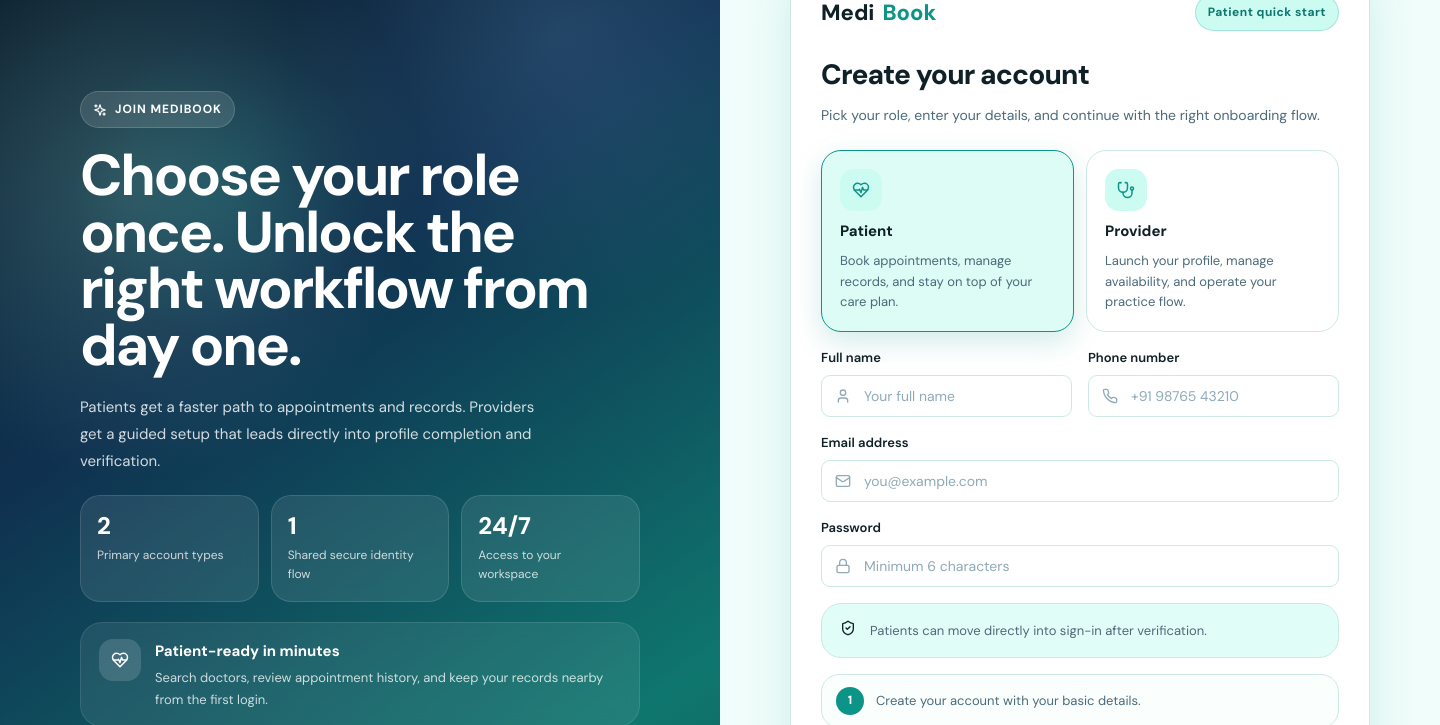
Test: LoginPage and RegisterPage › shows registration errors from the backend
In the field with placeholder "Your full name": (946, 396) [821,375,1072,417], type "  Jane Doe  "
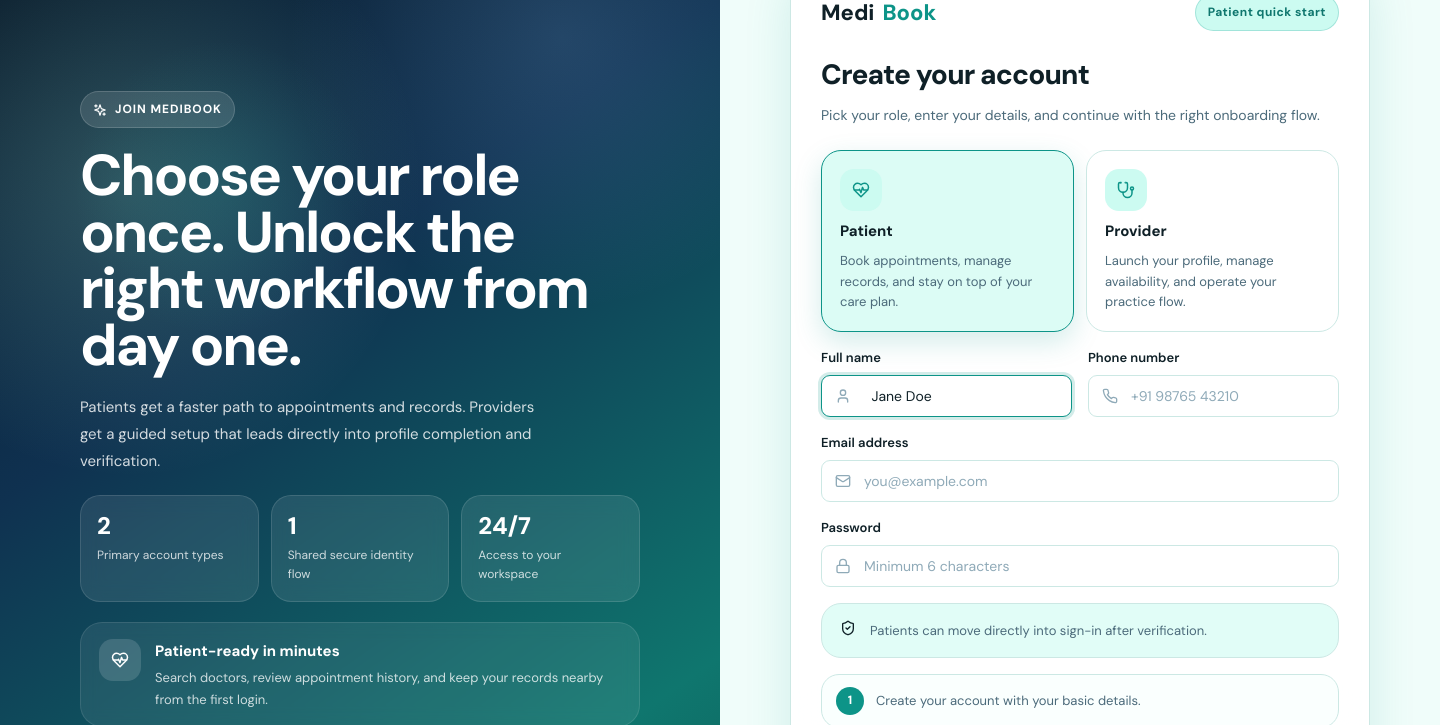
In the field with placeholder "+91 98765 43210": (1214, 396) [1088,375,1339,417], type " 98765abc43210 "
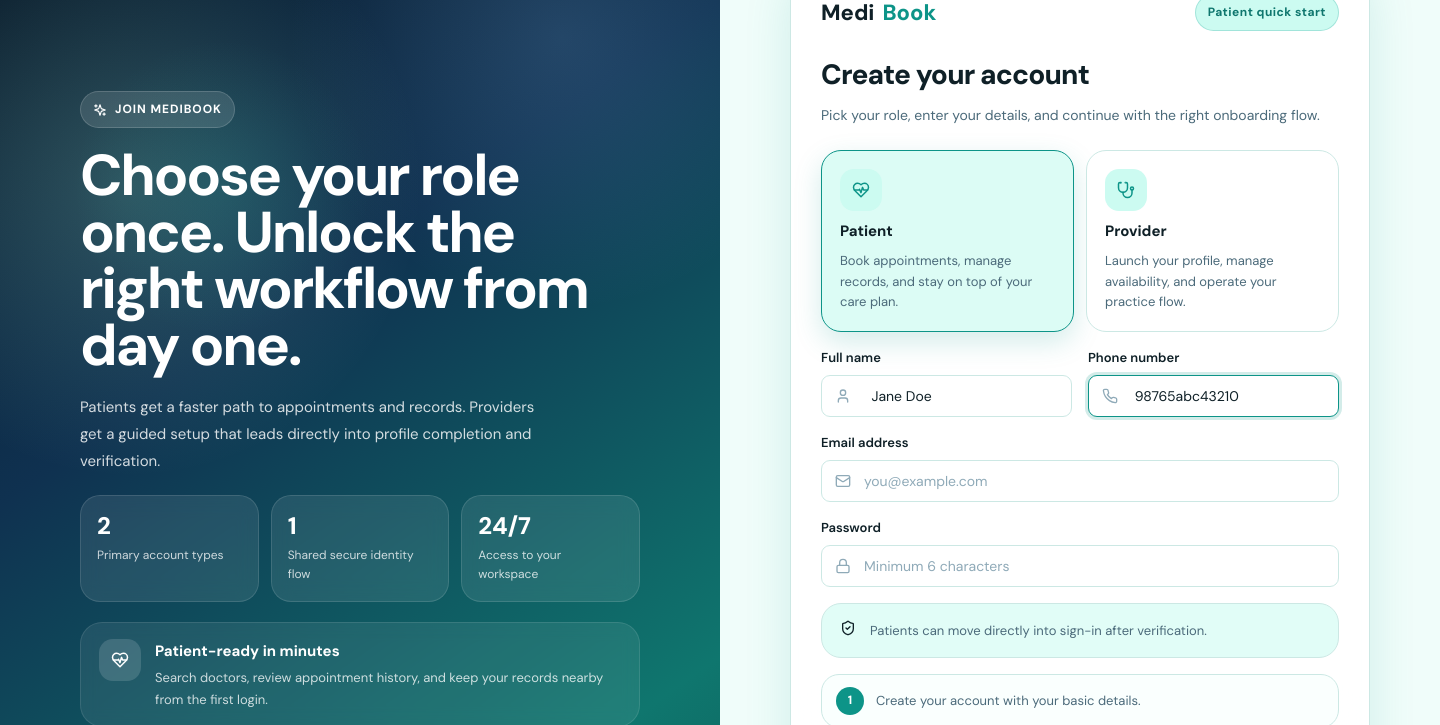
In the field with placeholder "you@example.com": (1080, 481) [821,460,1339,502], type " jane@example.com "
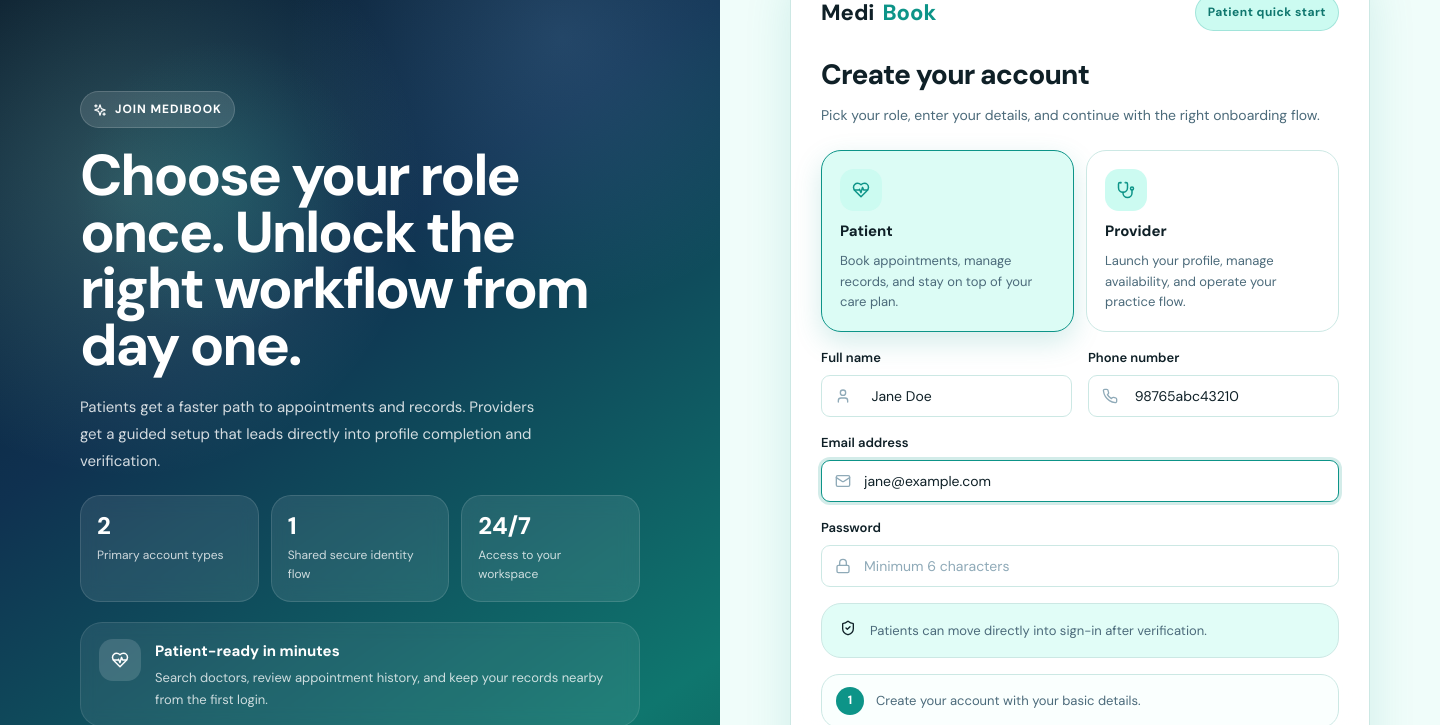
In the password field with placeholder "Minimum 6 characters": (1080, 566) [821,545,1339,587], type "password123"
(page scrolled)
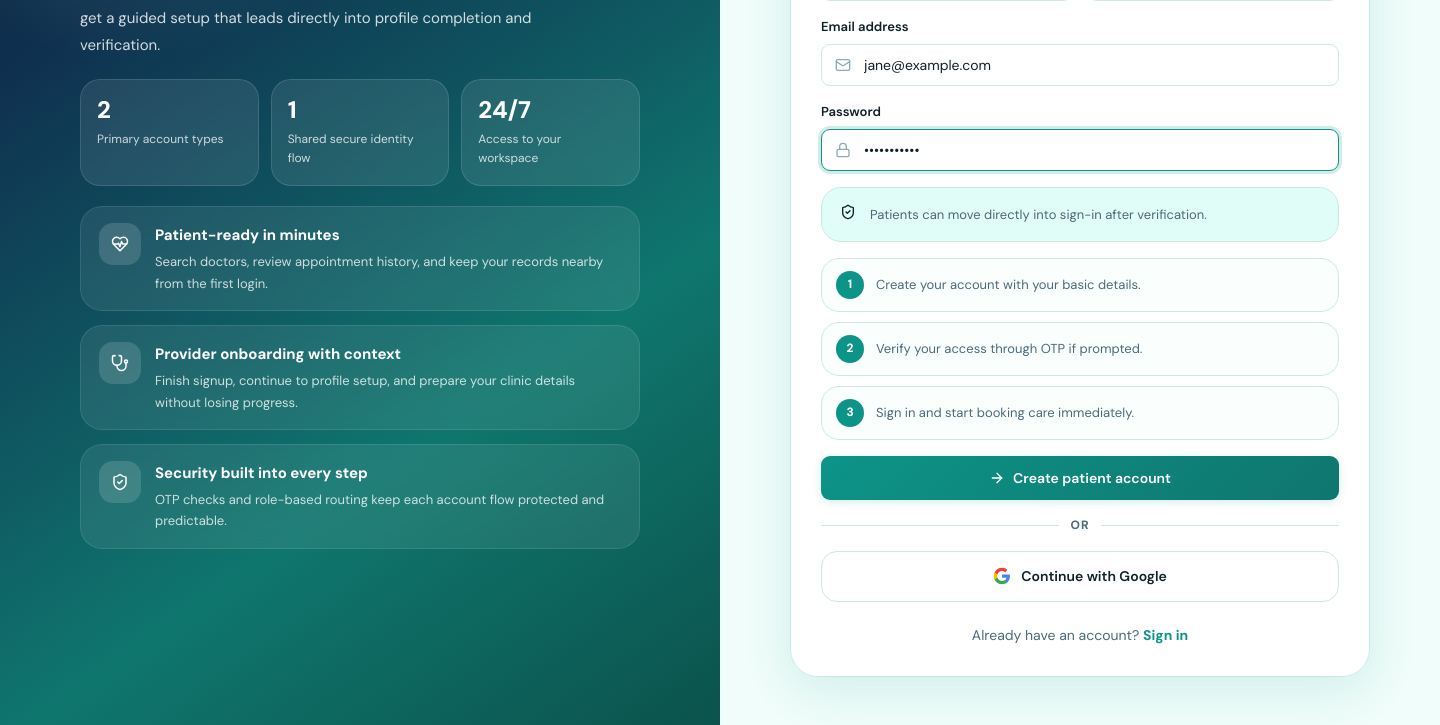
Click the button "Create patient account": (1080, 478) [821,456,1339,500]
(page scrolled)
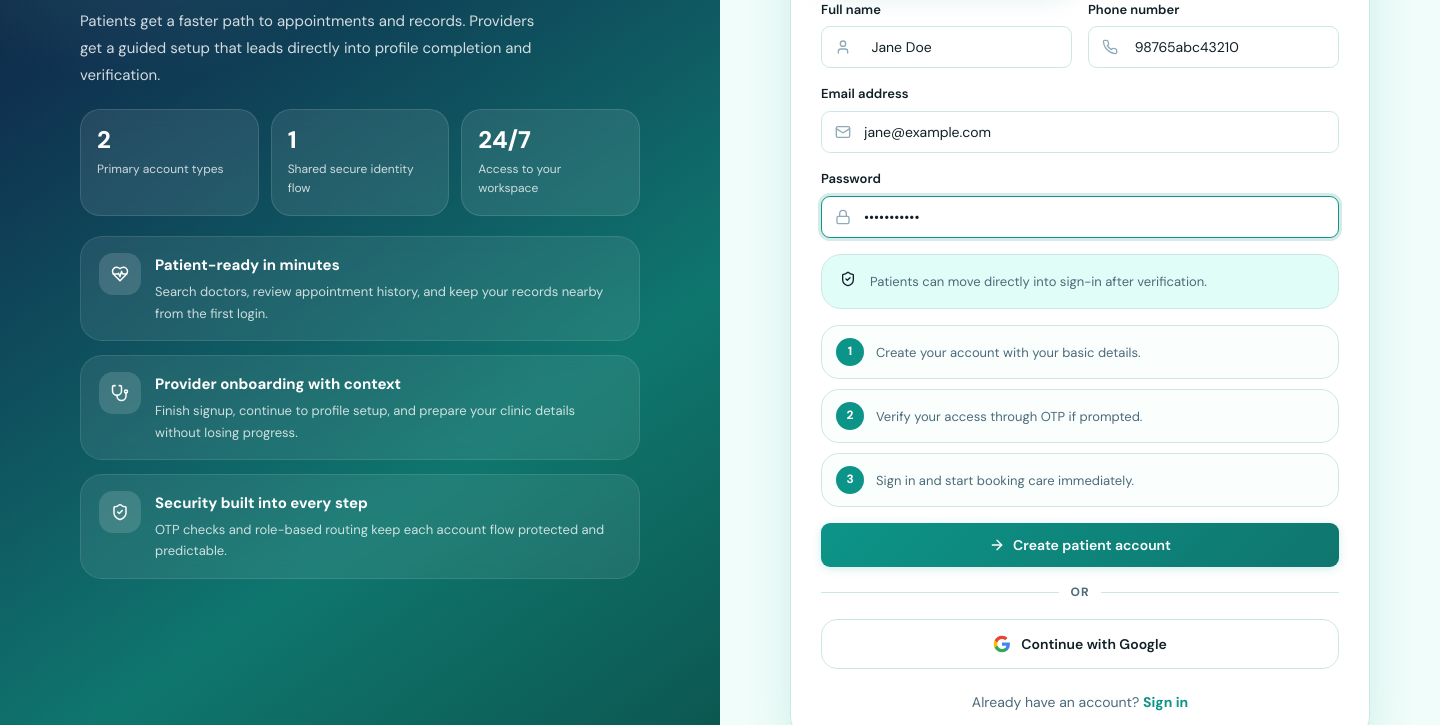
Click the button "Create patient account": (1080, 545) [821,523,1339,567]
(page scrolled)
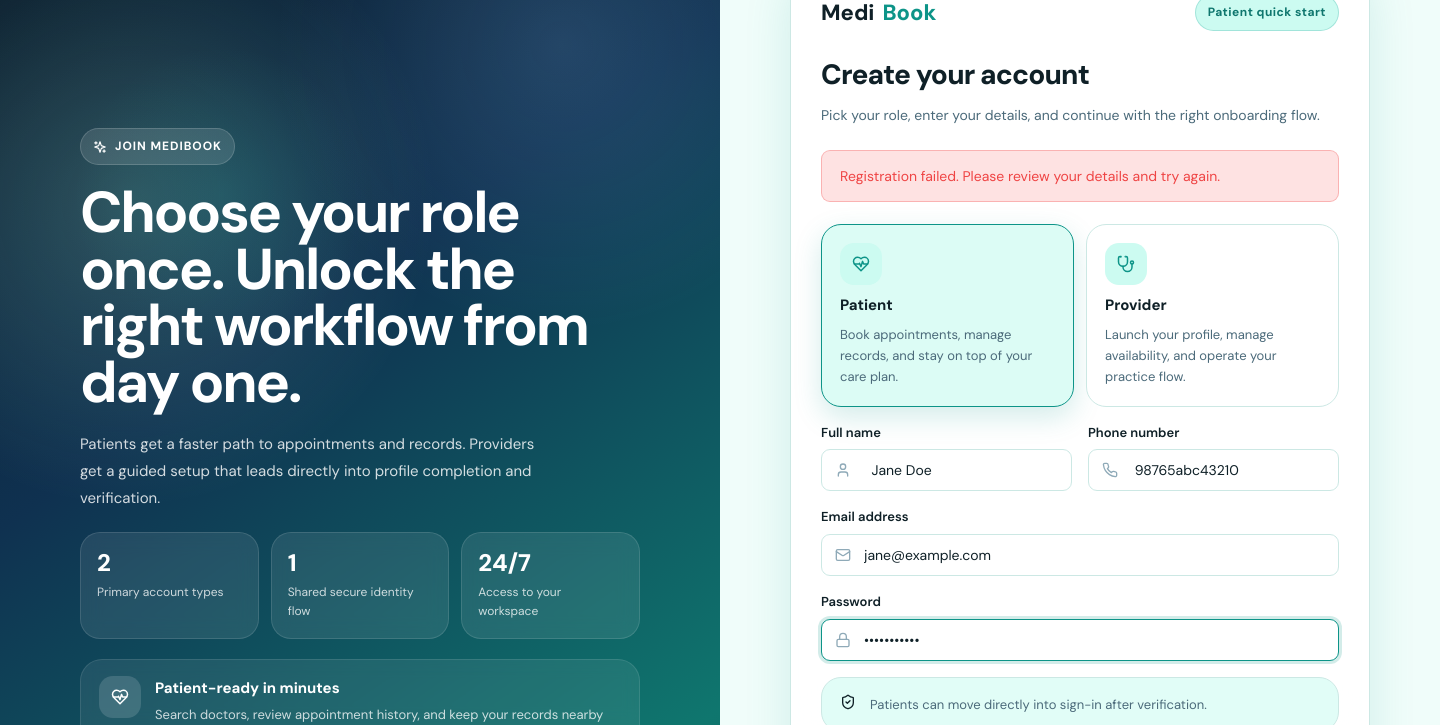
Expected: the text "Registration failed. Please review your details" is shown, [840,167,1220,185]
